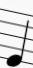E: (5, 6, 30, 67)
